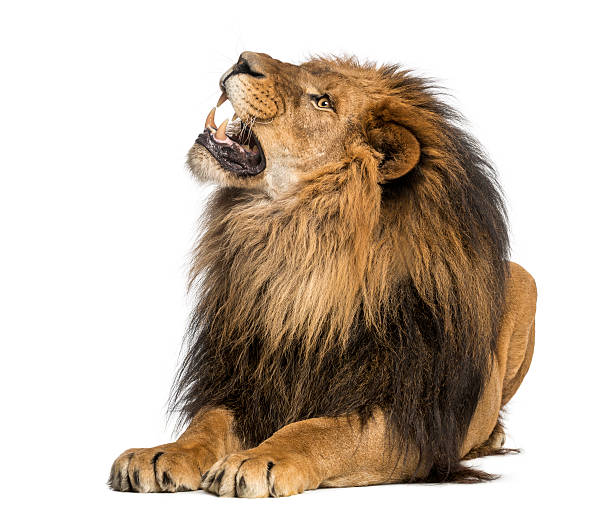lion: (146, 18, 544, 493)
